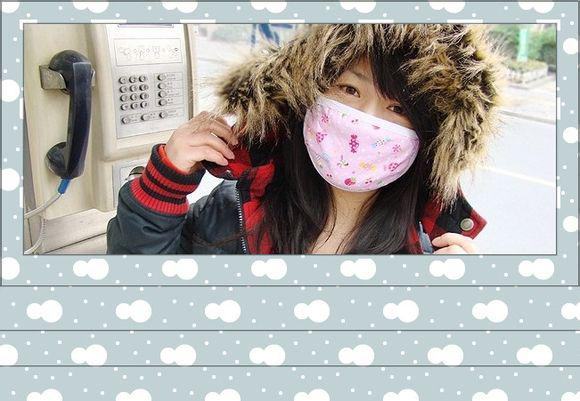OK: (304, 67, 429, 192)
